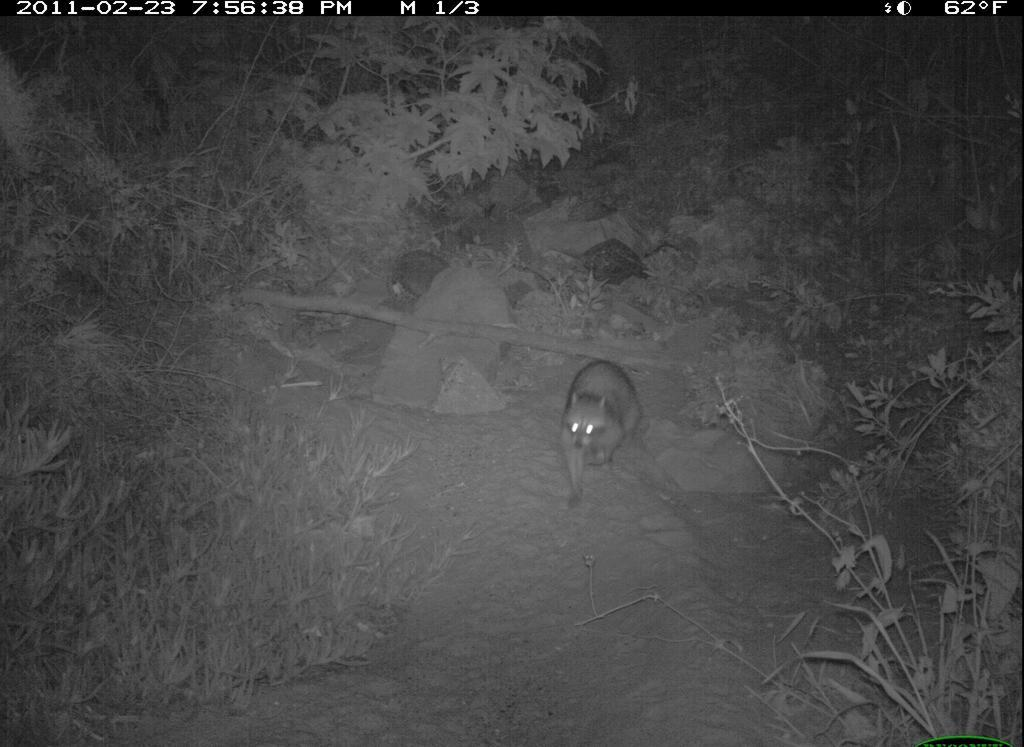raccoon: (550, 349, 648, 505)
